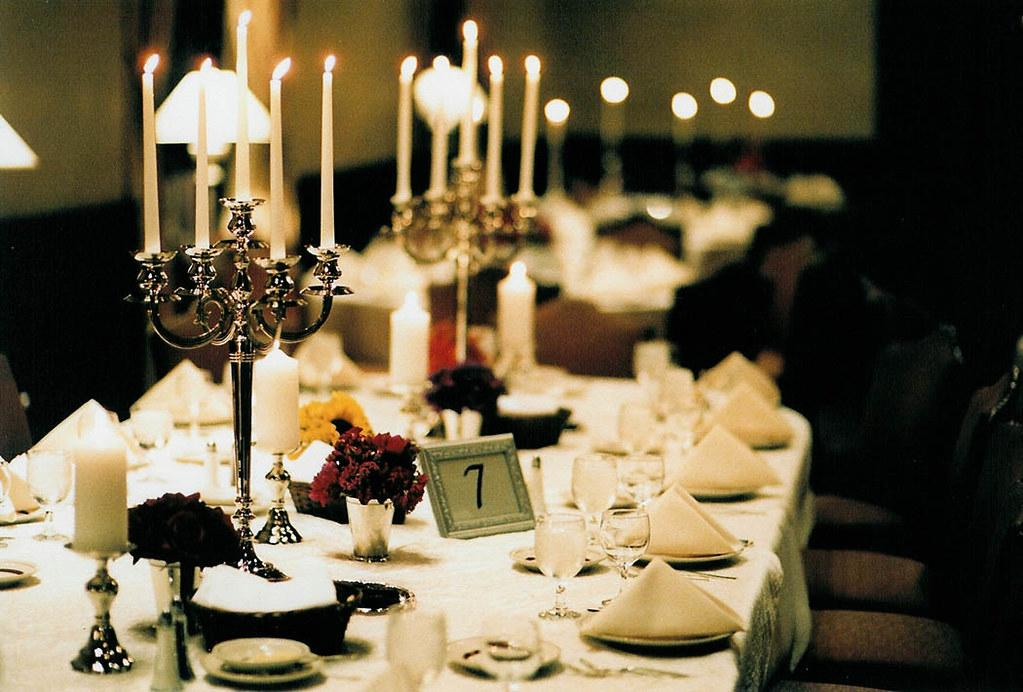table: (2, 362, 815, 691)
